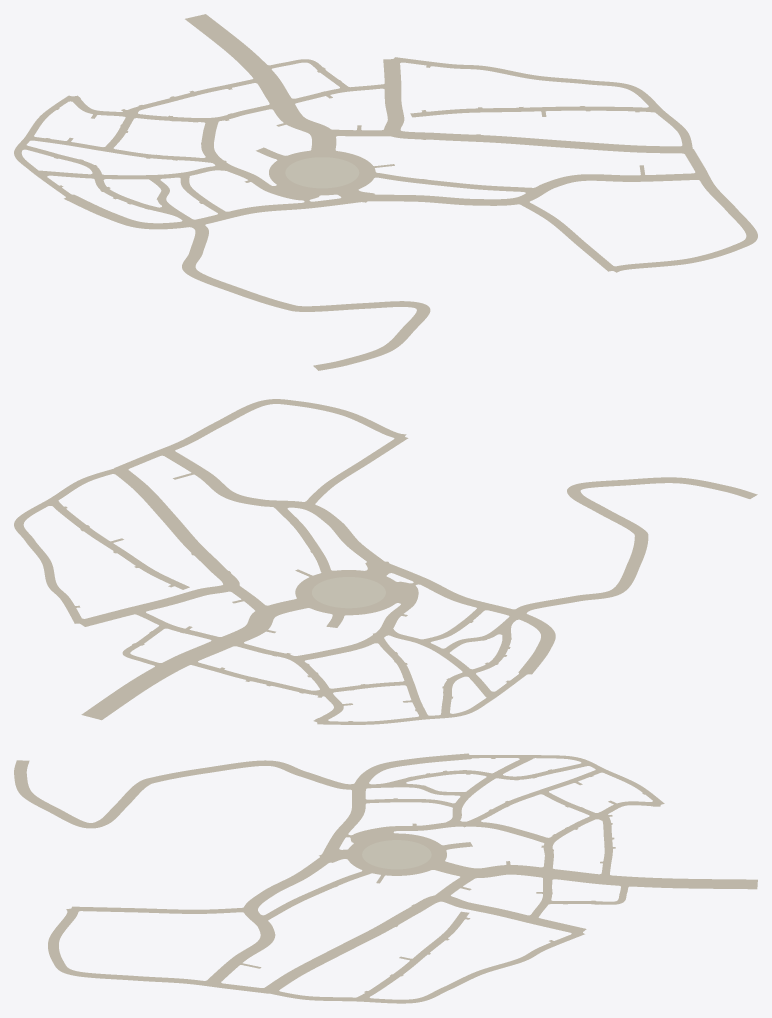
Rendered from 02_Roads.glb.
The picture shows the model from 3 angles, top to bottom: view 1: azimuth 30°, elevation 25°; view 2: azimuth 150°, elevation 25°; view 3: azimuth 270°, elevation 25°; orthographic projection. The views are drawn at different scales.
Visible parts, largest first — view 1: Continuous street cell 1_2, Continuous street cell 1_1, Continuous street cell 2_1_0, Continuous street cell 0_1, Continuous street cell 3_2, Continuous street cell 2_0, Continuous street cell 0_2, Market circular fine flagstone, Continuous street cell 2_3, Continuous street cell 3_3, Continuous street cell 2_2_2, Continuous street cell 1_0 (+5 smaller); view 2: Continuous street cell 1_2, Continuous street cell 1_1, Continuous street cell 2_1_0, Continuous street cell 0_1, Continuous street cell 3_2, Continuous street cell 2_0, Continuous street cell 0_2, Market circular fine flagstone, Continuous street cell 2_3, Continuous street cell 3_3, Continuous street cell 1_0, Continuous street cell 2_2_2 (+7 smaller); view 3: Continuous street cell 1_2, Continuous street cell 1_1, Continuous street cell 2_1_0, Continuous street cell 0_1, Continuous street cell 3_2, Continuous street cell 2_0, Continuous street cell 0_2, Market circular fine flagstone, Continuous street cell 3_3, Continuous street cell 2_3, Continuous street cell 2_2_2, Continuous street cell 1_0 (+7 smaller).
Boxes of the visible parts, <box> form: Continuous street cell 1_2: <box>183,150,409,222</box>; Continuous street cell 1_1: <box>107,95,335,189</box>; Continuous street cell 2_1_0: <box>258,57,451,146</box>; Continuous street cell 0_1: <box>14,137,169,210</box>; Continuous street cell 3_2: <box>508,82,692,153</box>; Continuous street cell 2_0: <box>185,14,323,83</box>; Continuous street cell 0_2: <box>89,191,213,272</box>; Market circular fine flagstone: <box>285,157,359,188</box>; Continuous street cell 2_3: <box>463,174,605,258</box>; Continuous street cell 3_3: <box>597,148,747,222</box>; Continuous street cell 2_2_2: <box>393,132,559,147</box>; Continuous street cell 1_0: <box>54,81,248,118</box>; Continuous street cell 1_2: <box>296,546,504,635</box>; Continuous street cell 1_1: <box>219,599,460,693</box>; Continuous street cell 2_1_0: <box>62,580,289,660</box>; Continuous street cell 0_1: <box>399,639,543,718</box>; Continuous street cell 3_2: <box>14,468,177,556</box>; Continuous street cell 2_0: <box>81,644,202,720</box>; Continuous street cell 0_2: <box>463,590,622,658</box>; Market circular fine flagstone: <box>312,577,385,608</box>; Continuous street cell 2_3: <box>214,448,388,524</box>; Continuous street cell 3_3: <box>114,412,243,490</box>; Continuous street cell 1_0: <box>199,664,352,724</box>; Continuous street cell 2_2_2: <box>167,518,239,584</box>; Continuous street cell 1_2: <box>300,794,433,871</box>; Continuous street cell 1_1: <box>433,794,597,871</box>; Continuous street cell 2_1_0: <box>433,871,597,948</box>; Continuous street cell 0_1: <box>433,753,597,793</box>; Continuous street cell 3_2: <box>269,948,433,1003</box>; Continuous street cell 2_0: <box>597,871,757,904</box>; Continuous street cell 0_2: <box>269,756,433,793</box>; Market circular fine flagstone: <box>362,840,431,869</box>; Continuous street cell 3_3: <box>104,948,268,993</box>; Continuous street cell 2_3: <box>104,888,268,948</box>; Continuous street cell 2_2_2: <box>334,896,433,948</box>; Continuous street cell 1_0: <box>597,794,664,871</box>.
Size of the model in its own units: 155 by 0 by 195.
